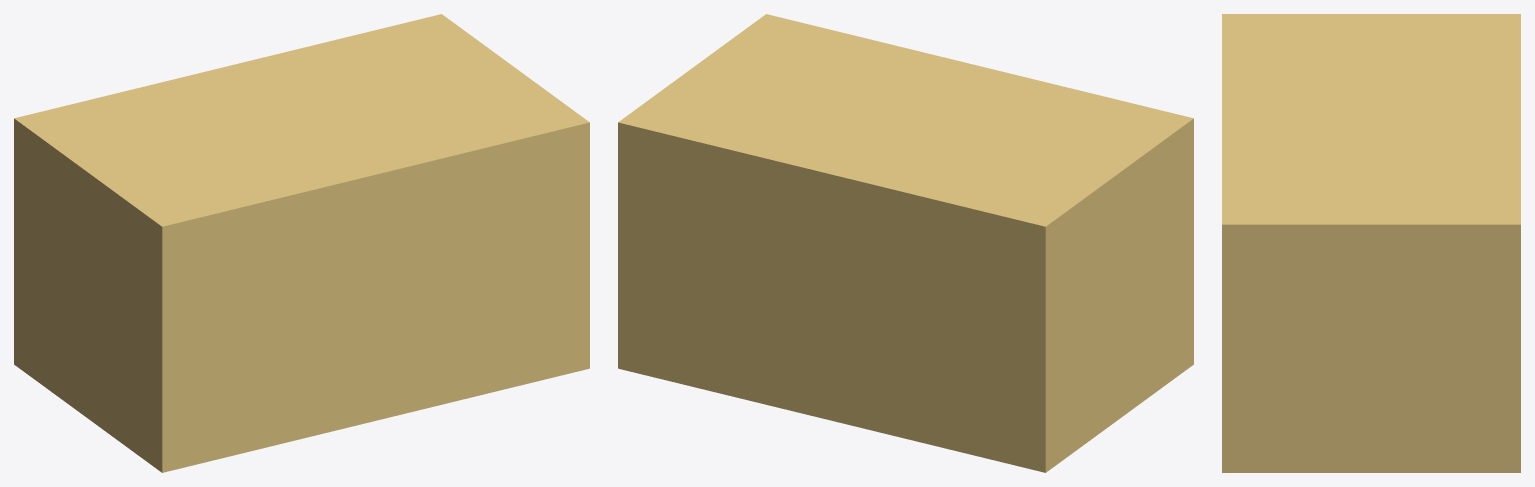
File: product_bread.glb
3 renders of one model, left to right at view 1: azimuth 30°, elevation 25°; view 2: azimuth 150°, elevation 25°; view 3: azimuth 270°, elevation 25°, orthographic.
Parts seen in each view (by area): view 1: body.002; view 2: body.002; view 3: body.002.
Boxes of the visible parts, x1,y1,x2,y2 form: body.002: (14, 14, 589, 472); body.002: (618, 14, 1193, 472); body.002: (1222, 14, 1520, 472).
Bounding box in the file's own units: 0.4 × 0.22 × 0.24.
